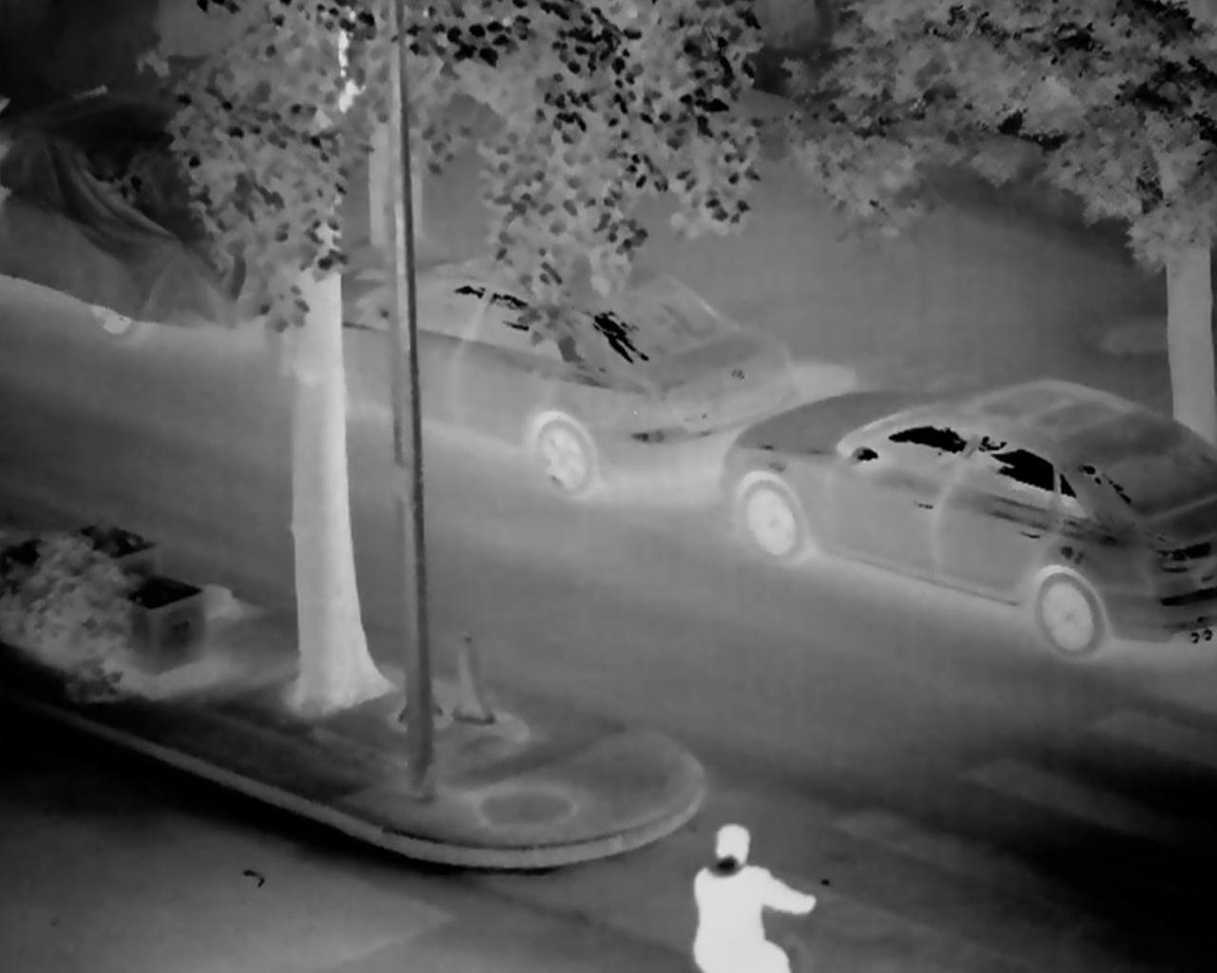person: (672, 814, 807, 971)
